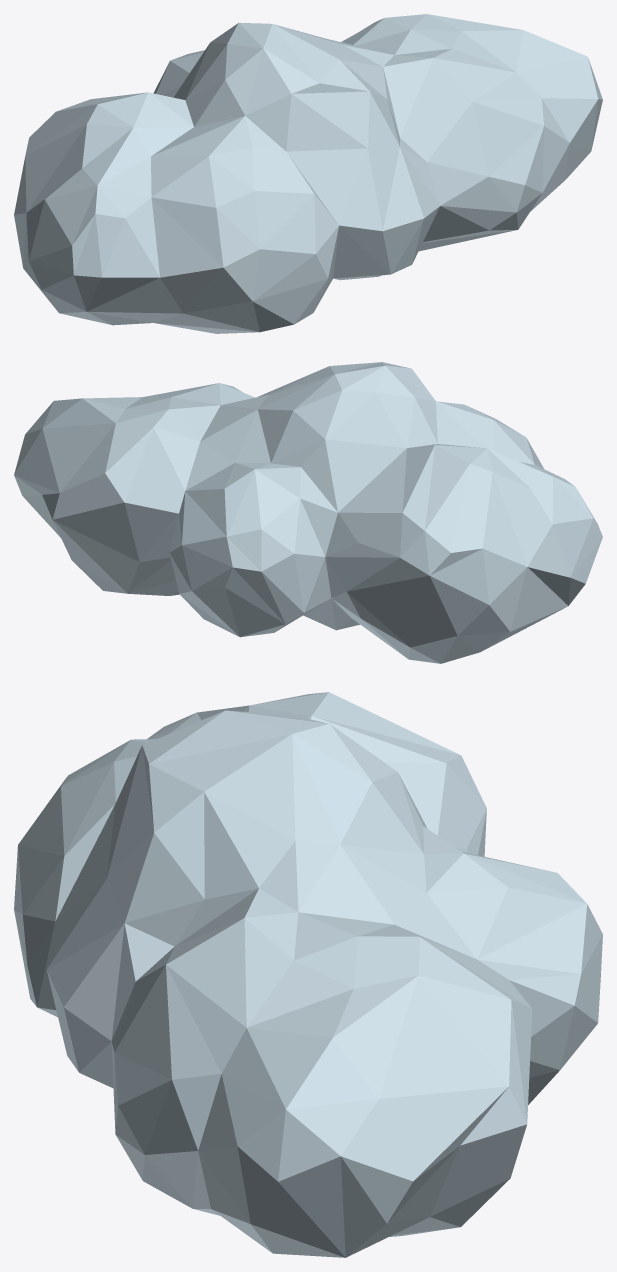
File: Cloud2.fbx
3 views of the same model, one above another, from view 1: azimuth 30°, elevation 25°; view 2: azimuth 150°, elevation 25°; view 3: azimuth 270°, elevation 25° (orthographic). The views are drawn at different scales.
Visible parts, largest first — view 1: pPlatonic2; view 2: pPlatonic2; view 3: pPlatonic2.
Boxes of the visible parts, x1=… form: pPlatonic2: x1=14, y1=14, x2=602, y2=333; pPlatonic2: x1=14, y1=362, x2=602, y2=663; pPlatonic2: x1=14, y1=692, x2=602, y2=1257.
Bounding box in the file's own units: 6.19 × 2.78 × 3.78.
